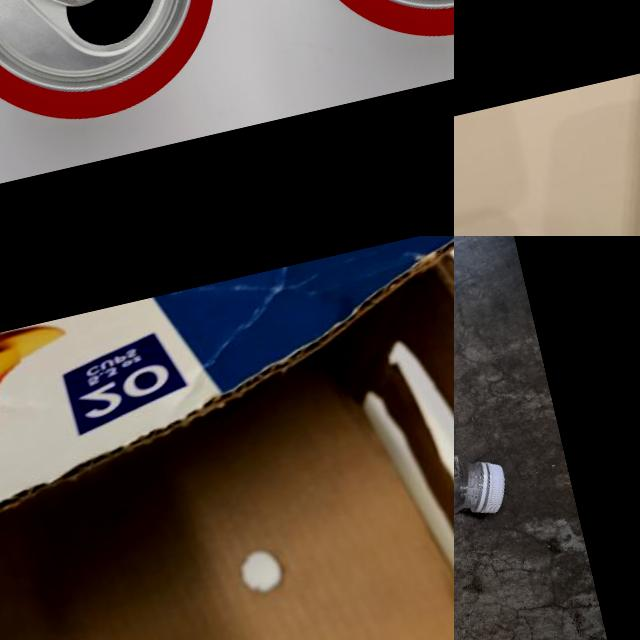garrafa de vidro: (577, 29, 640, 236)
garrafa plástica: (454, 429, 518, 640)
lata: (0, 0, 214, 115)
papelão: (0, 236, 454, 640)
tampa plástica: (463, 452, 514, 519)
